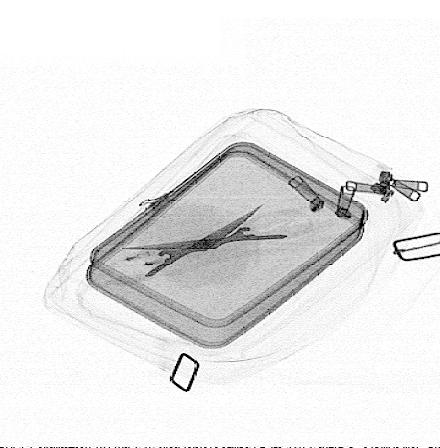Scissors: (91, 202, 317, 286)
